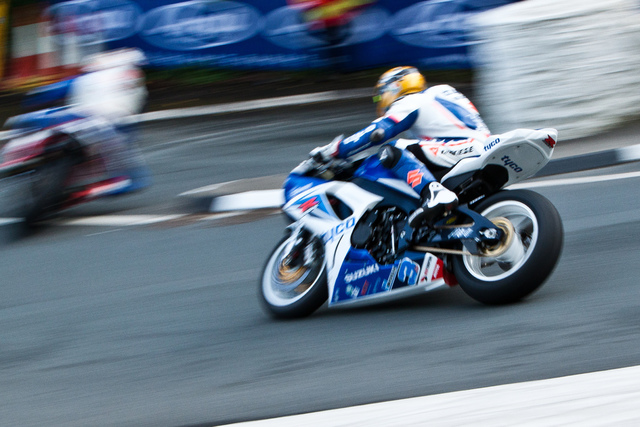helmet: (370, 66, 428, 101)
